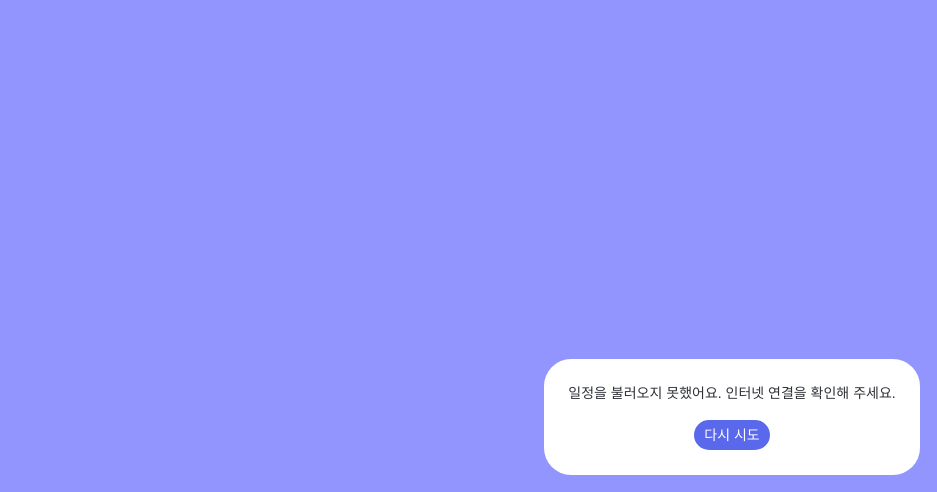
Test case: PlannerLoader: 로그인한 사람의 일정 불러오기 › 불러오지 못하면 [다시 시도]로 다시 가져온다
The image size is (937, 492).
Click the button "다시 시도" at (732, 435), box [693, 419, 771, 451]
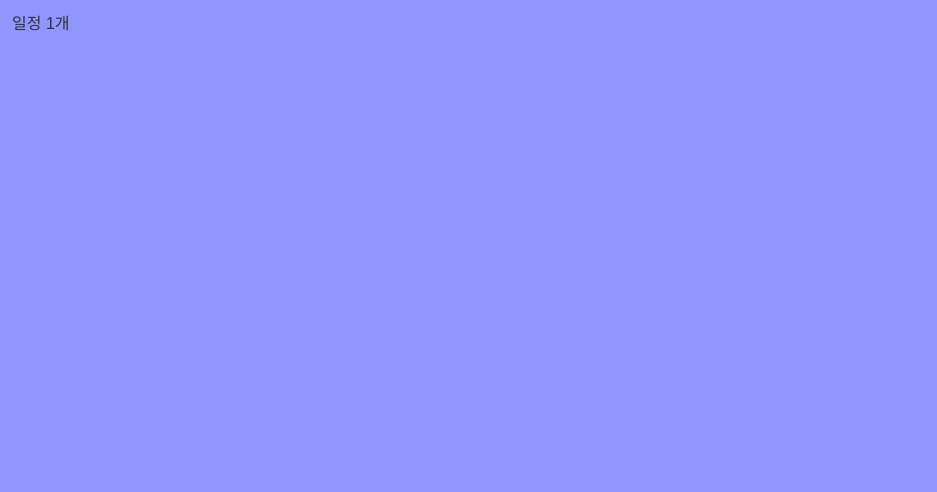
Check: the text "일정 1개" is shown, box [12, 15, 70, 32]
